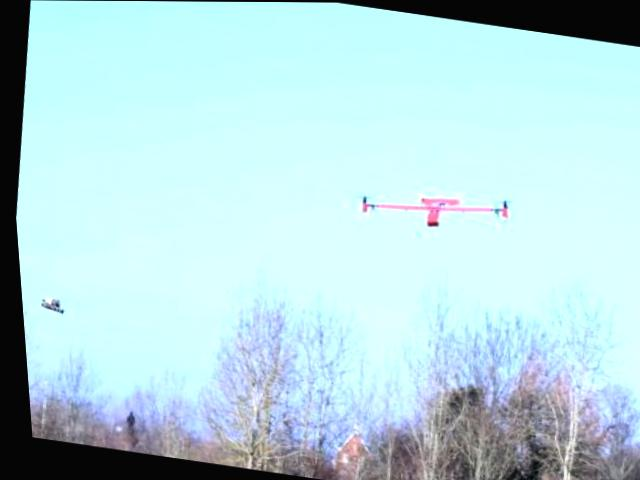uav: (342, 161, 518, 254)
